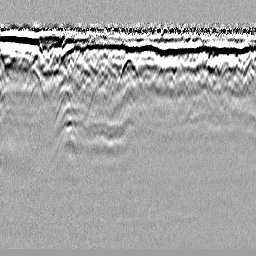cavity: (115, 51, 143, 95)
